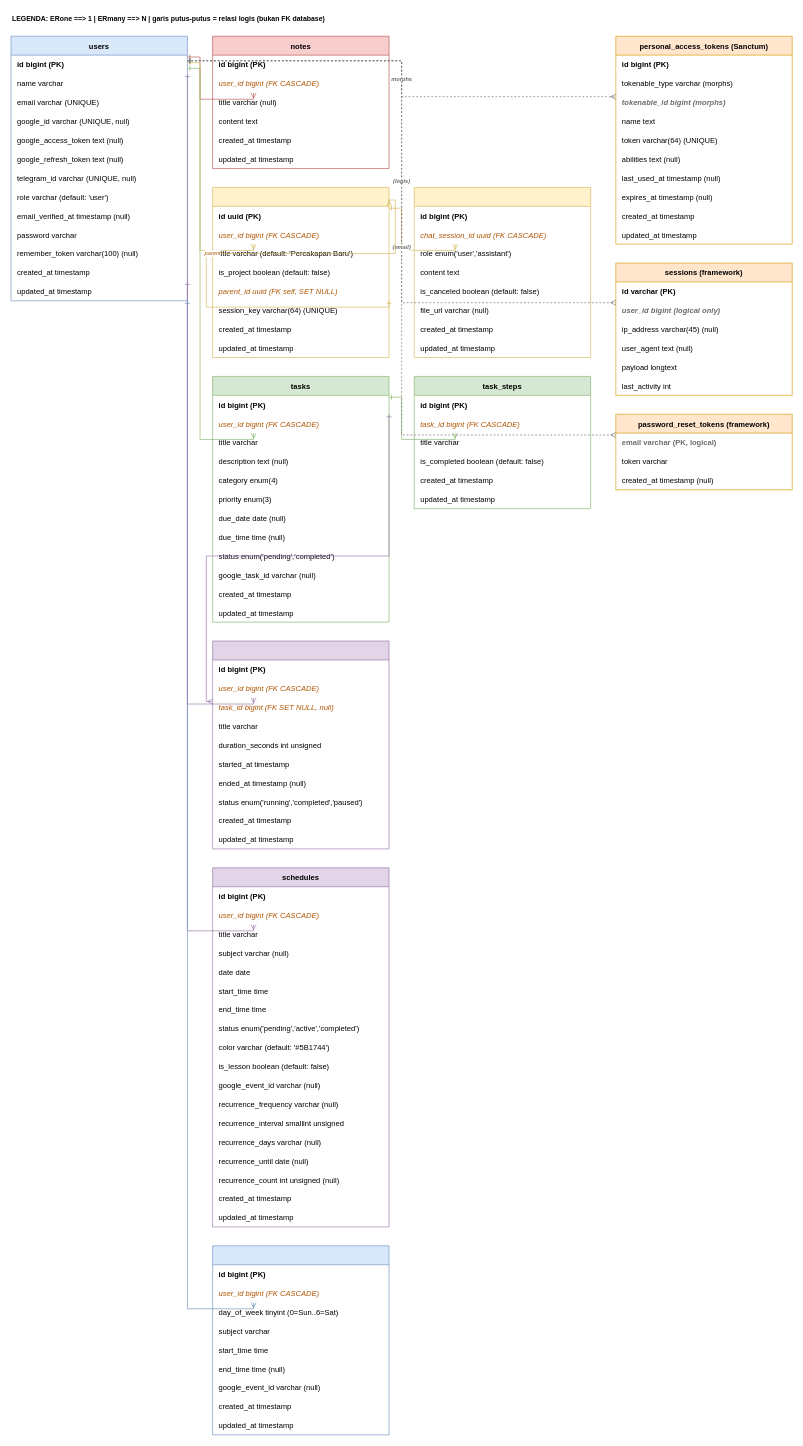
Some shapes in this 803 by 1446 pixel diagram are drawn without their labels. Each missing label, with the box of its shape:
chat_messages: (414, 187, 591, 358)
chat_sessions: (212, 187, 389, 358)
school_timetables: (212, 1245, 389, 1435)
study_sessions: (212, 640, 389, 849)
